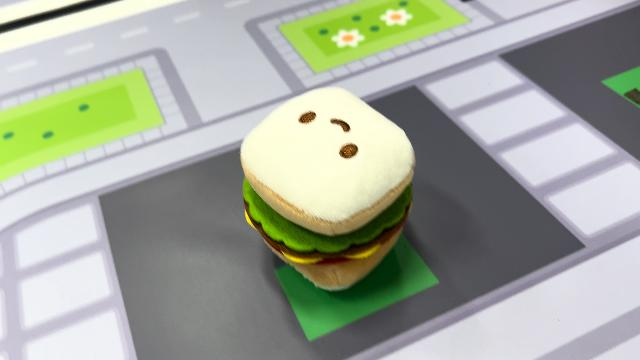sandwich: (237, 84, 419, 292)
